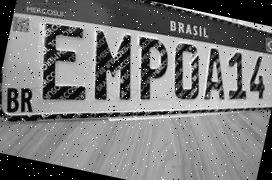placa_mercosul: (0, 0, 272, 121)
